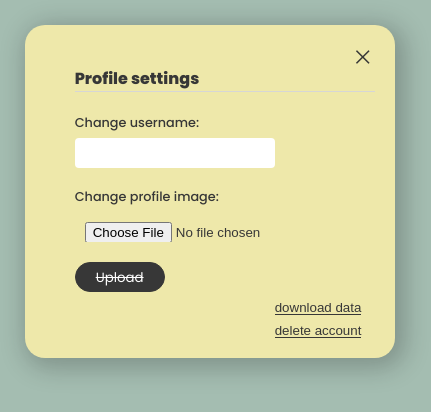
<UserSettings/> › should render input error message and disable upload button if username input value is too long
Type "daredev3343554543543553454" into the field with test id "username" at (175,152), box [75,138,275,168]
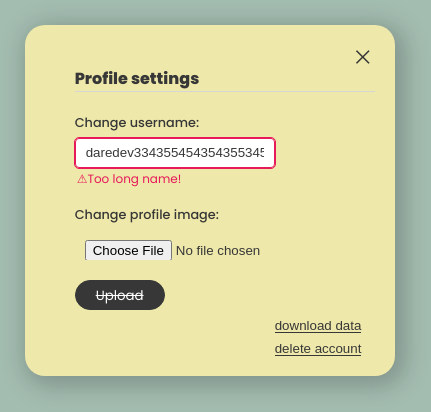
Check: the message shows "Too long", box [77,170,181,186]
